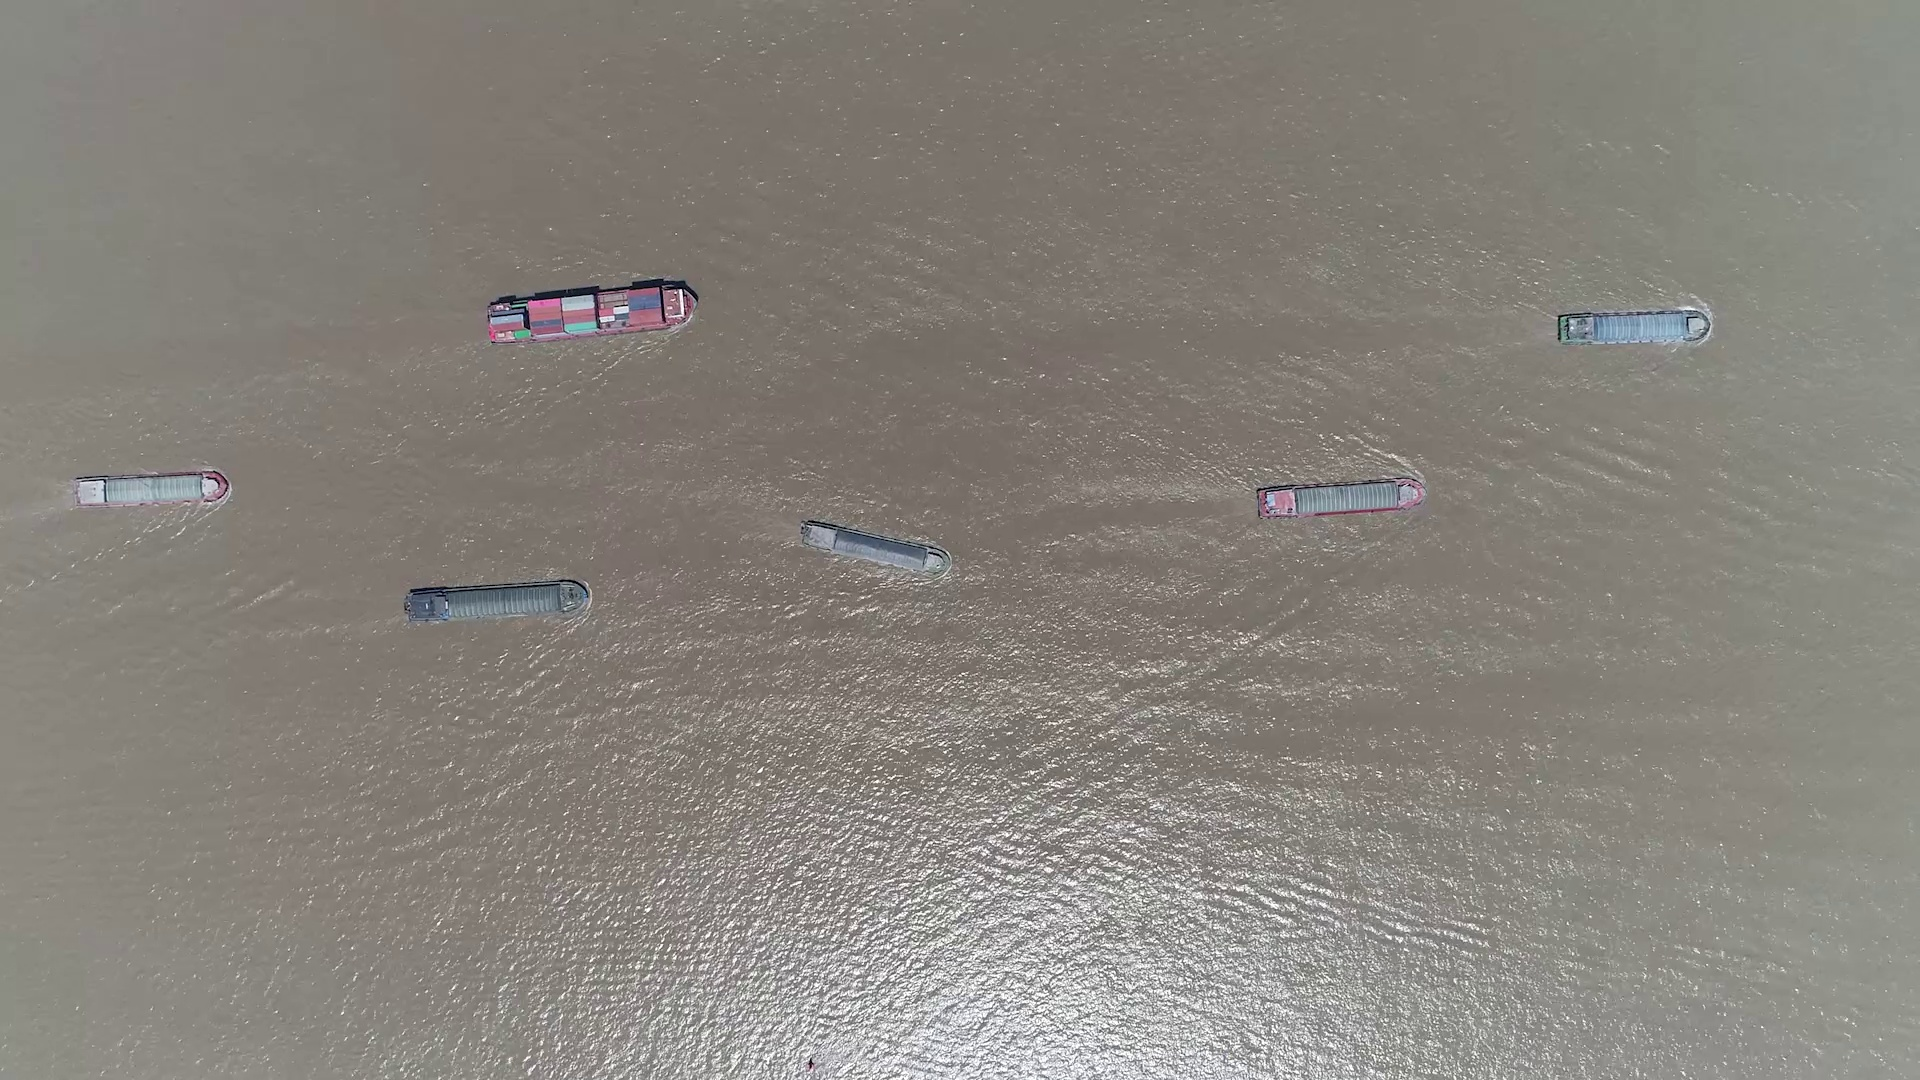ship: (485, 282, 698, 343), (404, 578, 589, 622), (800, 520, 951, 575), (1255, 476, 1424, 520), (73, 472, 228, 508), (1557, 313, 1708, 345)
